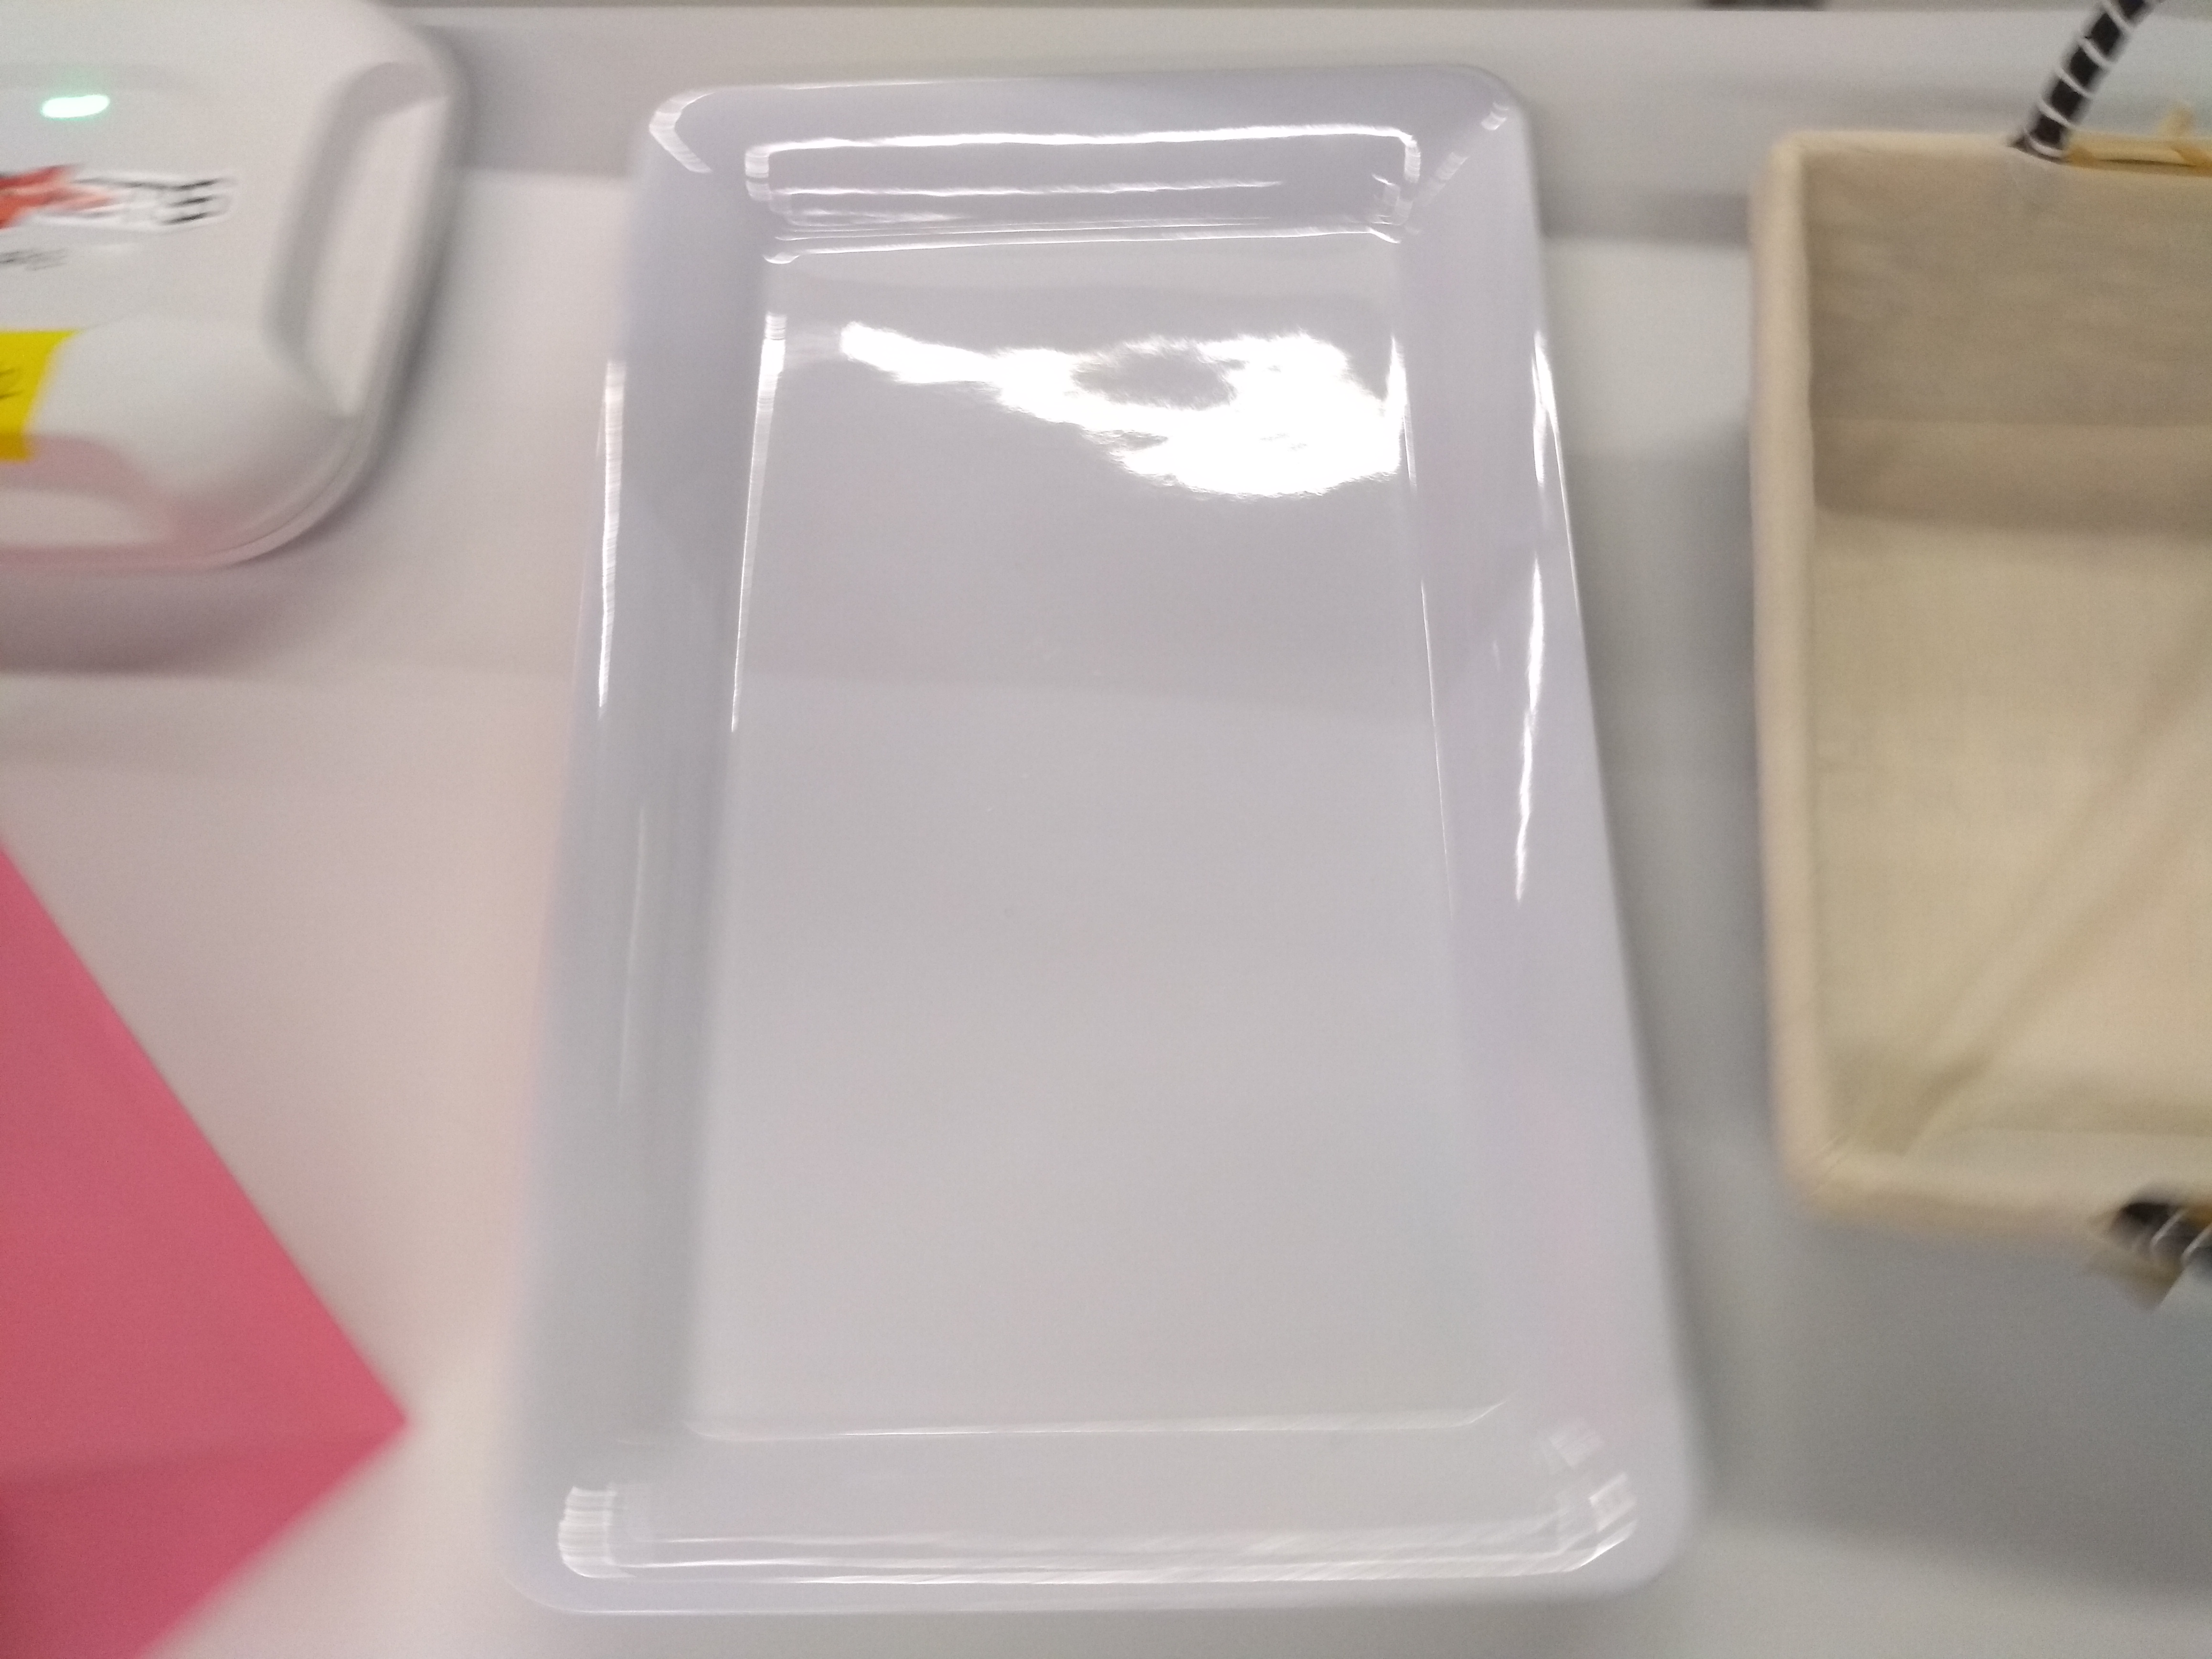basket: (1738, 2, 2212, 1326)
tray: (491, 54, 1721, 1652)
